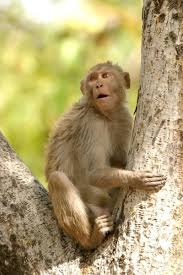monkey: (22, 24, 168, 250)
